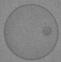small: (43, 25, 51, 35)
